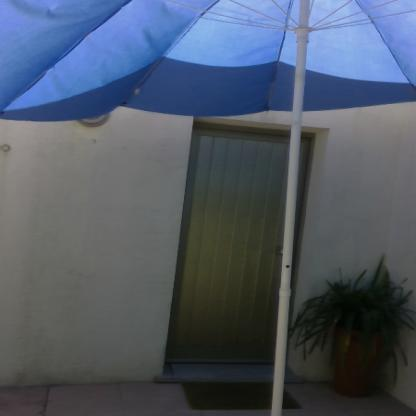door: (195, 131, 291, 363)
